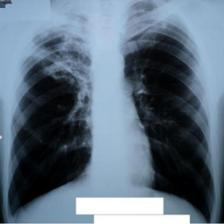tuberculosis: (7, 18, 214, 222)
